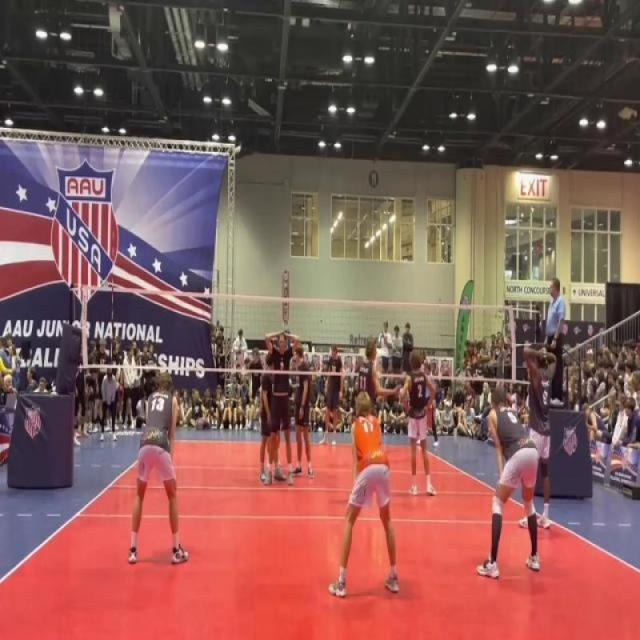volleyball: (258, 406, 262, 421)
